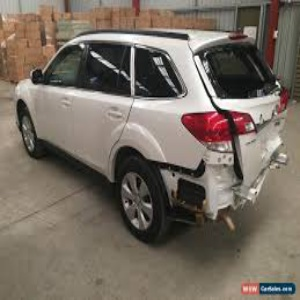bumper: (210, 165, 263, 219)
